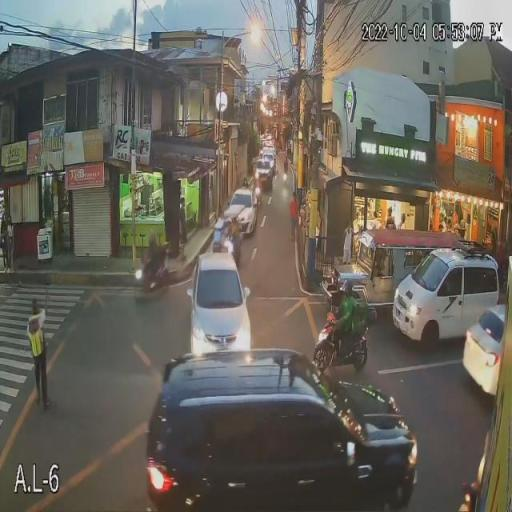helmet: (338, 277, 362, 301)
motorcycle: (306, 326, 374, 374), (132, 270, 169, 294)
rider: (135, 228, 163, 297), (336, 280, 358, 358)
